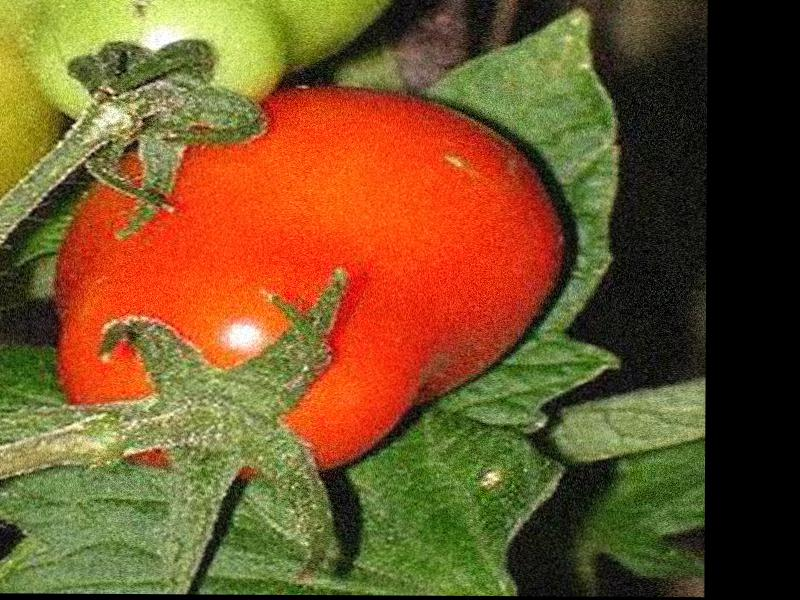Tomato: (59, 86, 566, 479)
